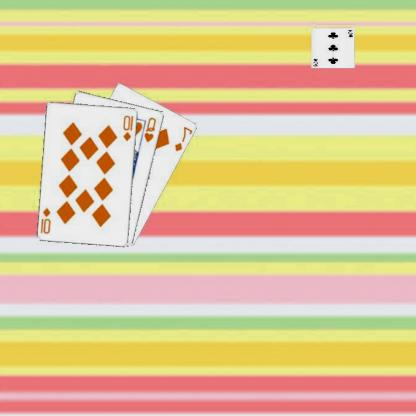10D: (123, 112, 137, 142), (40, 205, 54, 235)
7D: (174, 123, 195, 153)
QH: (144, 114, 160, 144)
